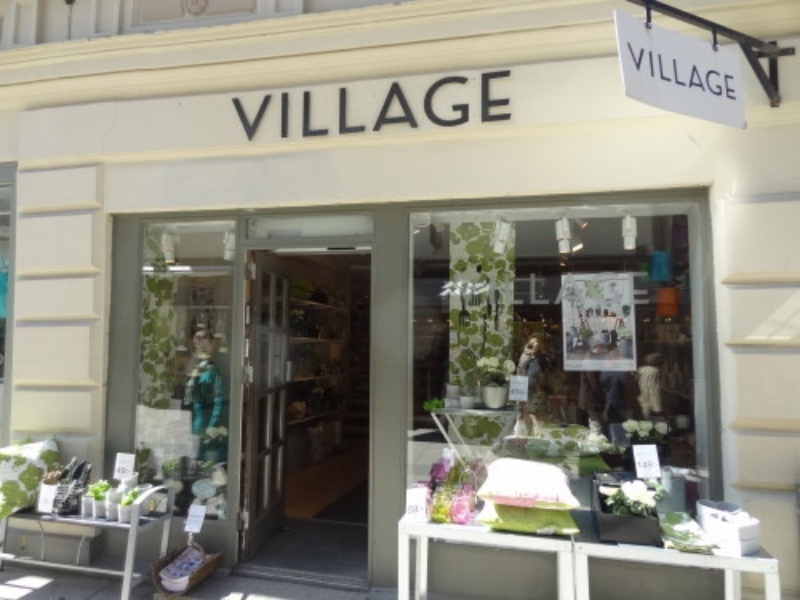text: (241, 68, 256, 145), (257, 68, 272, 145), (273, 68, 288, 145), (289, 68, 304, 145), (305, 68, 320, 145), (321, 68, 336, 145), (337, 68, 352, 145), (353, 68, 368, 145), (369, 68, 384, 145), (385, 68, 400, 145), (401, 68, 416, 145), (417, 68, 432, 145), (433, 68, 448, 145), (449, 68, 464, 145), (465, 68, 480, 145), (481, 68, 496, 145), (497, 68, 512, 145), (625, 39, 640, 103), (641, 39, 656, 103), (657, 39, 672, 103), (673, 39, 688, 103), (689, 39, 704, 103), (705, 39, 720, 103), (721, 39, 736, 103), (231, 68, 240, 145), (465, 268, 480, 306), (481, 268, 496, 306), (497, 268, 512, 306), (513, 268, 528, 306), (529, 268, 544, 306), (545, 268, 560, 306), (561, 268, 576, 306), (577, 268, 592, 306), (593, 268, 608, 306), (609, 268, 624, 306), (625, 268, 640, 306), (450, 268, 464, 306), (641, 268, 652, 306), (513, 68, 516, 145), (737, 39, 740, 103), (623, 39, 624, 103)
